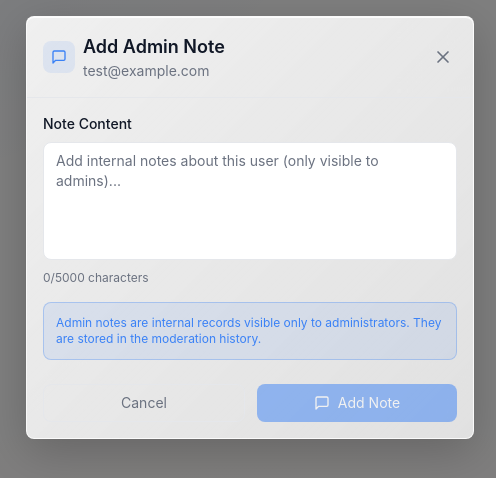
Scenario: AddAdminNoteModal › enables submit button when content is valid
Type "Valid note content" into the text box with placeholder "Add internal notes about this user" at (250, 200), box [43, 142, 457, 260]
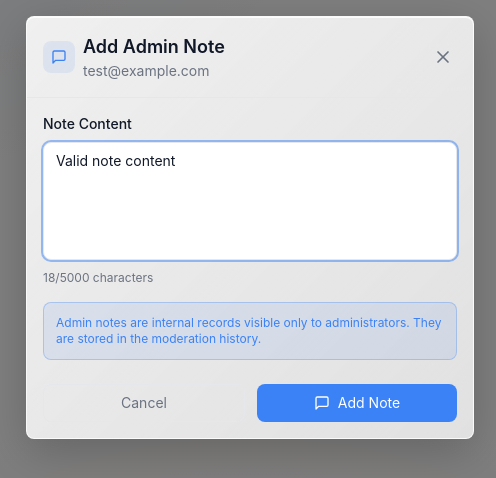
Result: the button "Add Note" is enabled at [257, 384, 457, 422]
